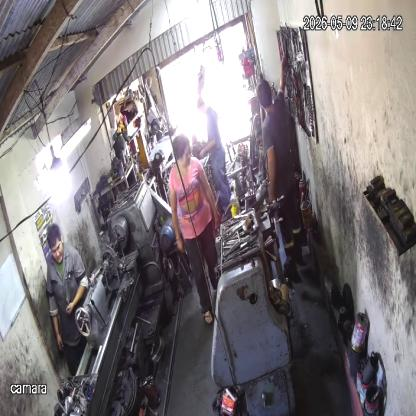sin_lentes: (50, 243, 63, 255)
